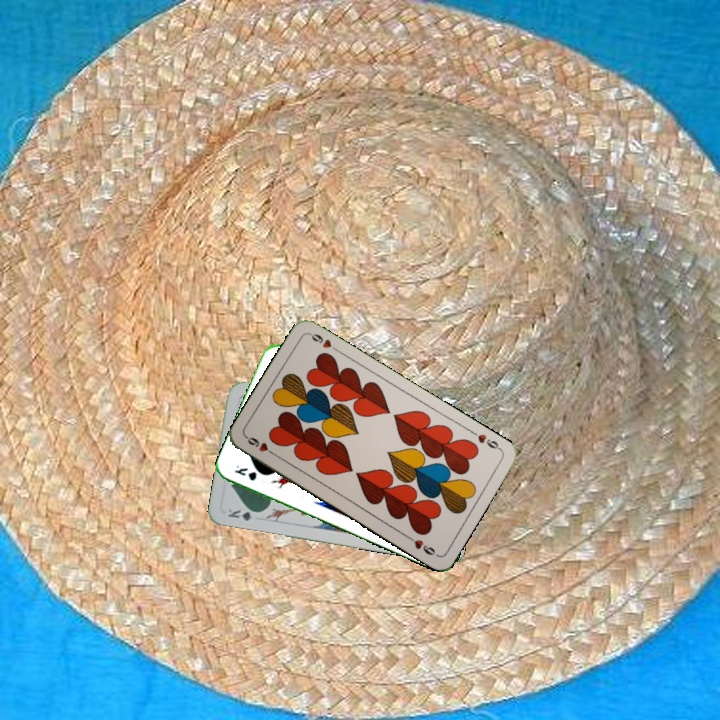GK: (224, 504, 263, 523), (230, 461, 259, 483)
H9: (243, 432, 279, 459), (467, 427, 504, 453)
